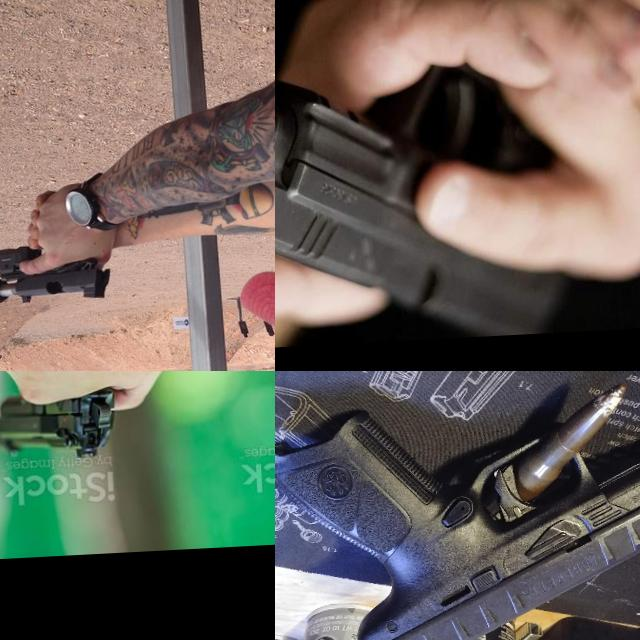handgun: (275, 390, 640, 640), (275, 55, 575, 351), (0, 384, 119, 464), (0, 240, 114, 309)
